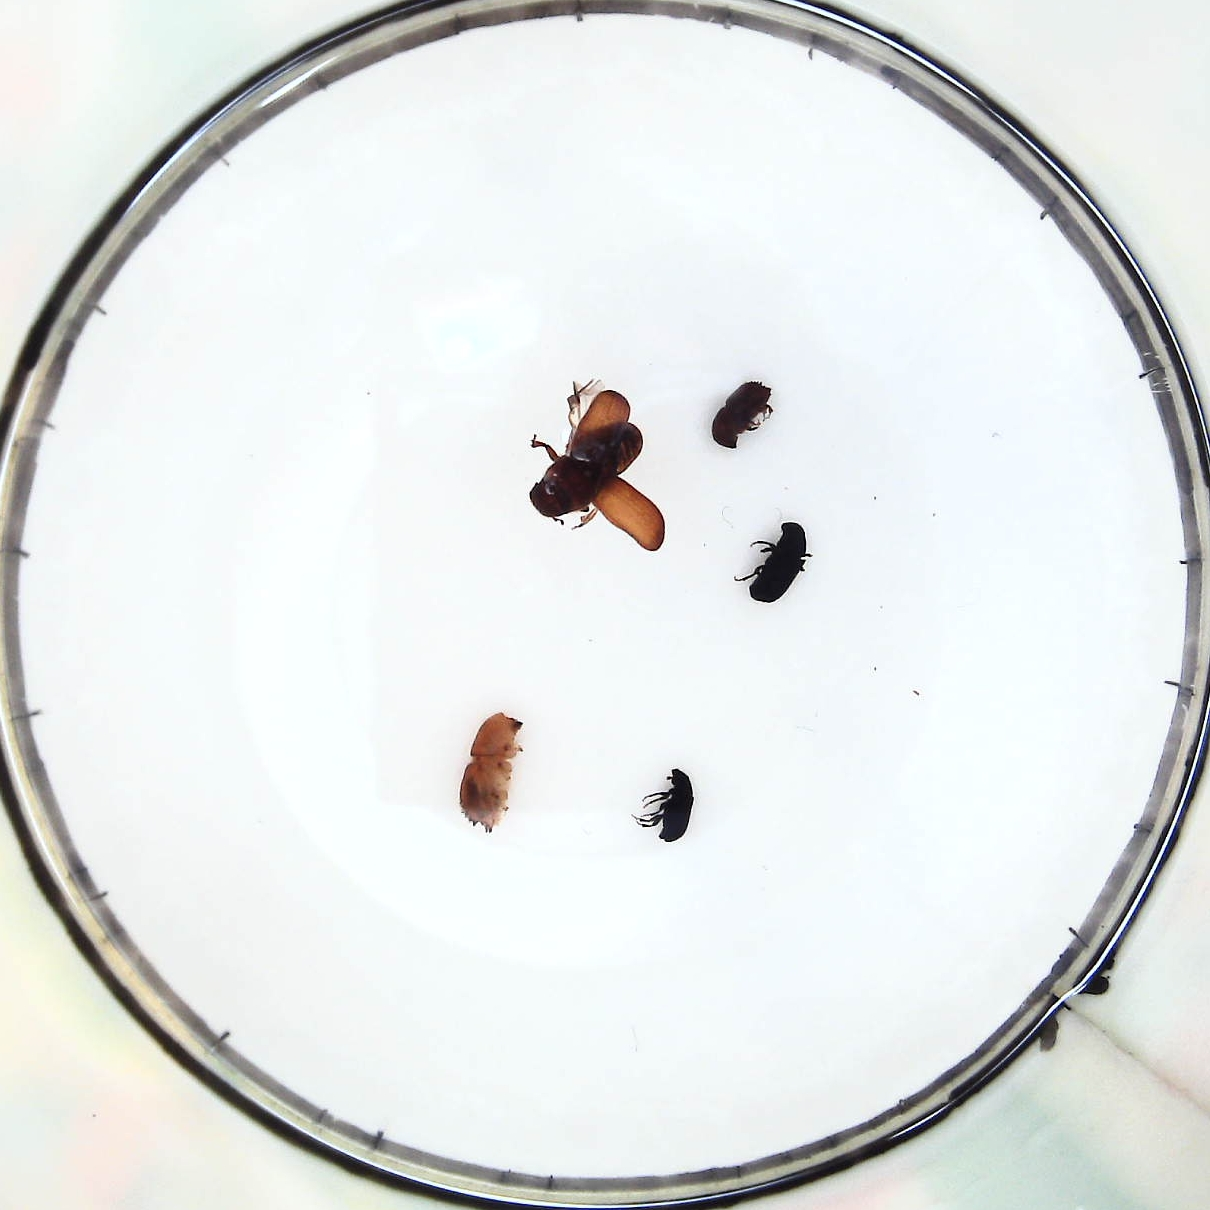Boerner: (459, 708, 522, 834)
Leconte: (520, 378, 669, 555)
Linnaeus: (714, 381, 778, 452)
armandi: (744, 522, 814, 604)
coleoptera: (635, 769, 696, 843)
